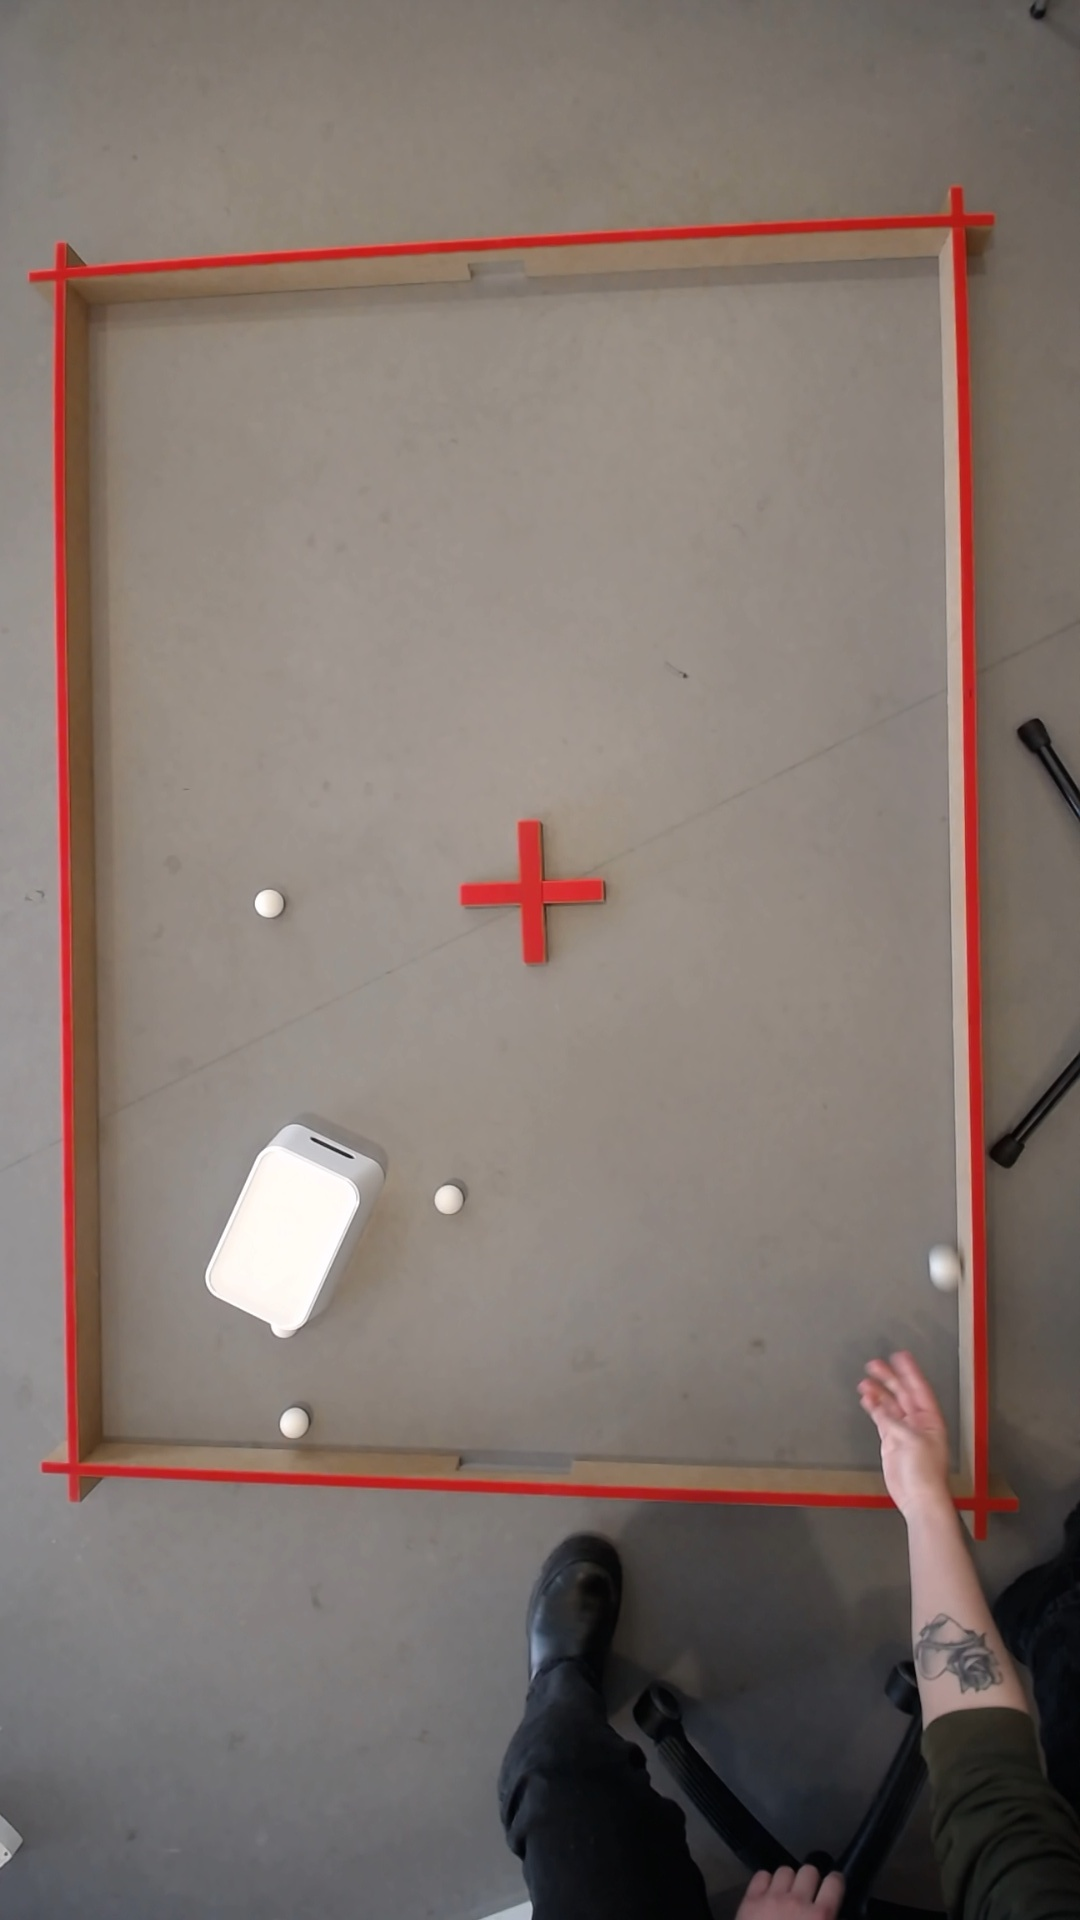balls: (878, 1448, 926, 1522), (869, 1424, 906, 1474), (429, 1180, 460, 1215), (923, 1251, 955, 1283), (253, 889, 276, 916)
car: (274, 1407, 302, 1437)
